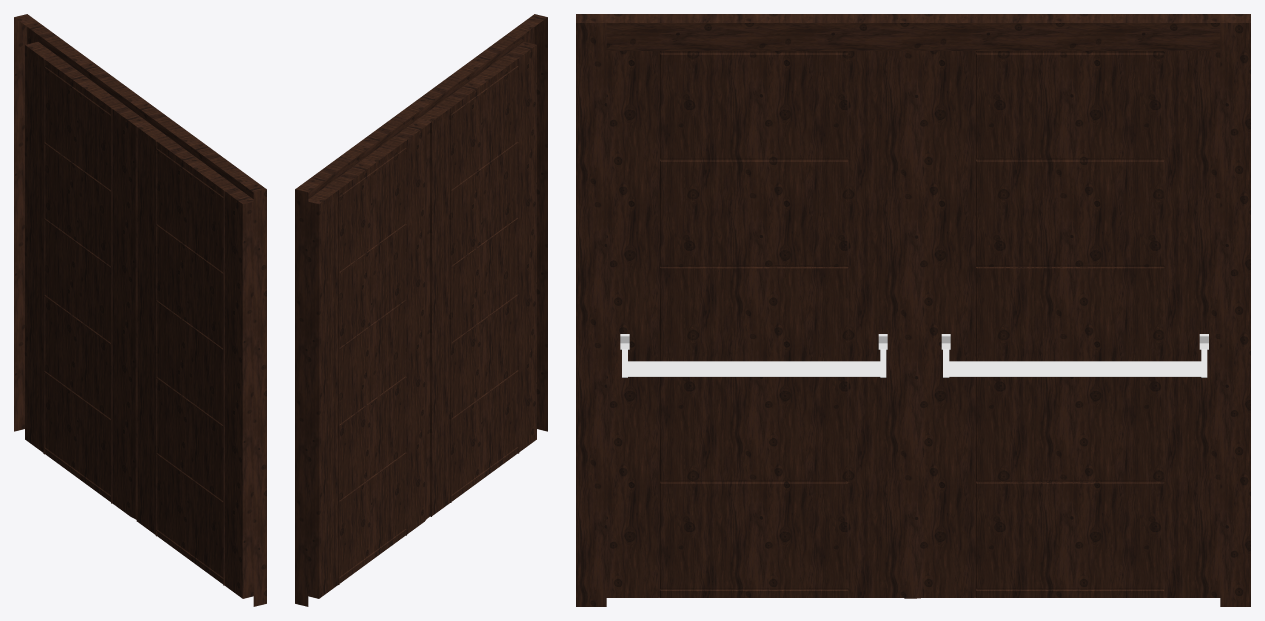
The model's file is deur_.fbx.
The picture shows the model from 3 angles, left to right: view 1: azimuth 30°, elevation 25°; view 2: azimuth 150°, elevation 25°; view 3: azimuth 270°, elevation 25°; orthographic projection. The views are drawn at different scales.
Visible parts, largest first — view 1: door_frame__1_; view 2: door_frame__1_; view 3: door_frame__1_, doorhandle.
Boxes of the visible parts, x1,y1,x2,y2 form: door_frame__1_: [14, 14, 266, 606]; door_frame__1_: [295, 14, 547, 606]; door_frame__1_: [576, 14, 1250, 606]; doorhandle: [620, 334, 1208, 377].
Size of the model in its own units: 9.68 by 254 by 266.
